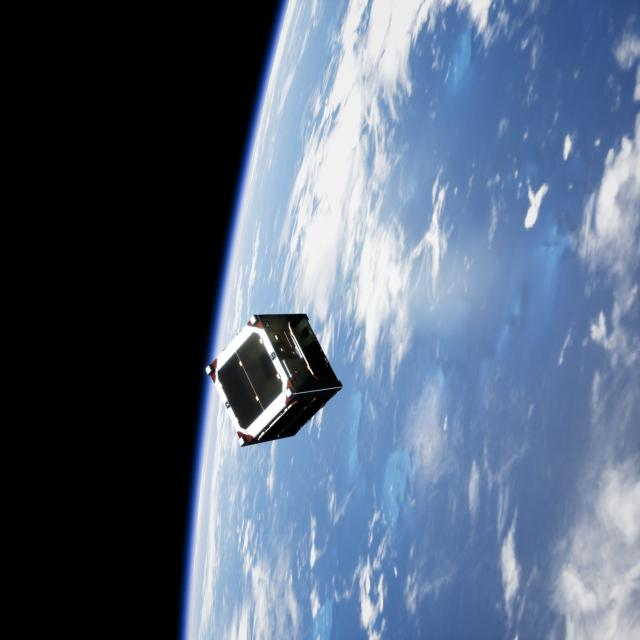medium_debris: (201, 305, 345, 447)
